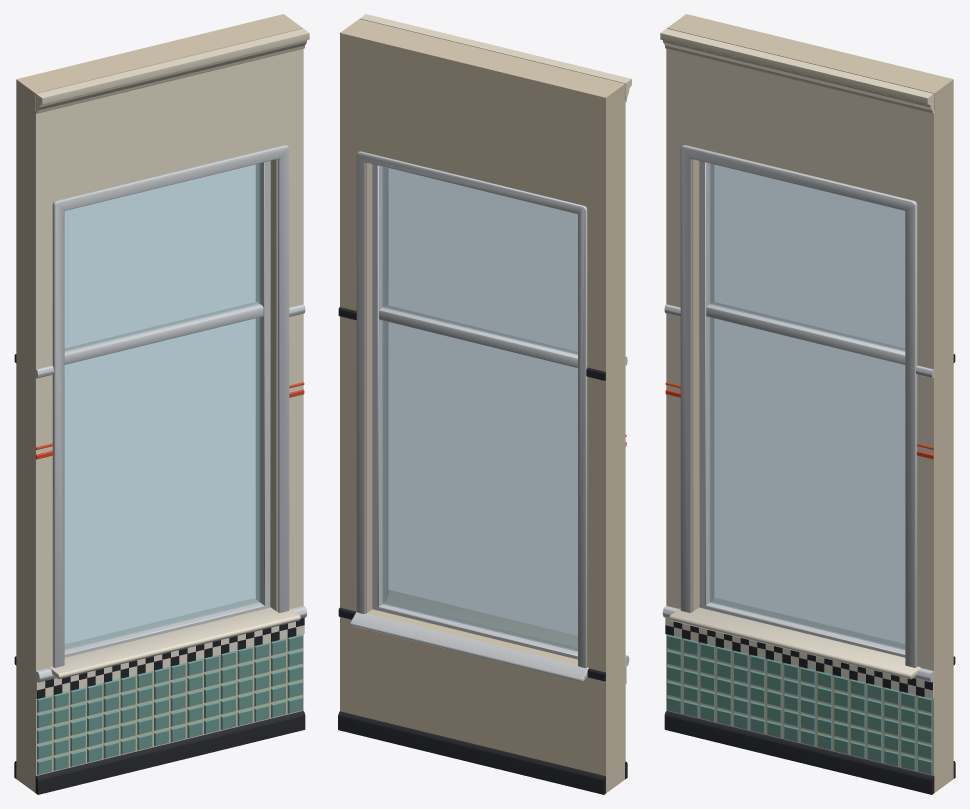
File: Shop_WallWindowTall.fbx
3 renders of one model, left to right at view 1: azimuth 30°, elevation 25°; view 2: azimuth 150°, elevation 25°; view 3: azimuth 330°, elevation 25°, orthographic.
Parts seen in each view (by area): view 1: Glass, Upper, Frame, Core, Tiles, Baseboard, Grout, Sill, CheckerDark, CheckerLight, ChairRail; view 2: Core, Glass, Frame, BackBase, Upper, Sill, BackBand; view 3: Glass, Upper, Frame, Core, Tiles, Baseboard, Grout, Sill, CheckerDark, CheckerLight, ChairRail.
Part boxes in pixels (<box>): Glass: <box>64,163,259,649</box>; Upper: <box>35,28,309,680</box>; Frame: <box>52,145,289,667</box>; Core: <box>16,14,302,792</box>; Tiles: <box>37,634,302,774</box>; Baseboard: <box>35,711,305,794</box>; Grout: <box>35,634,303,775</box>; Sill: <box>49,607,300,679</box>; CheckerDark: <box>37,617,304,698</box>; CheckerLight: <box>36,621,304,698</box>; ChairRail: <box>36,304,307,682</box>; Core: <box>340,19,624,793</box>; Glass: <box>382,167,577,651</box>; Frame: <box>350,151,588,681</box>; BackBase: <box>338,711,605,794</box>; Upper: <box>359,14,631,667</box>; Sill: <box>387,590,577,647</box>; BackBand: <box>338,307,605,681</box>; Glass: <box>710,163,905,649</box>; Upper: <box>660,28,934,680</box>; Frame: <box>680,145,917,667</box>; Core: <box>667,14,953,792</box>; Tiles: <box>667,634,932,774</box>; Baseboard: <box>664,711,934,794</box>; Grout: <box>666,634,934,775</box>; Sill: <box>669,607,920,679</box>; CheckerDark: <box>665,621,932,696</box>; CheckerLight: <box>665,617,933,698</box>; ChairRail: <box>662,304,933,682</box>.
Size of the model in its own units: 800 by 2000 by 192.
